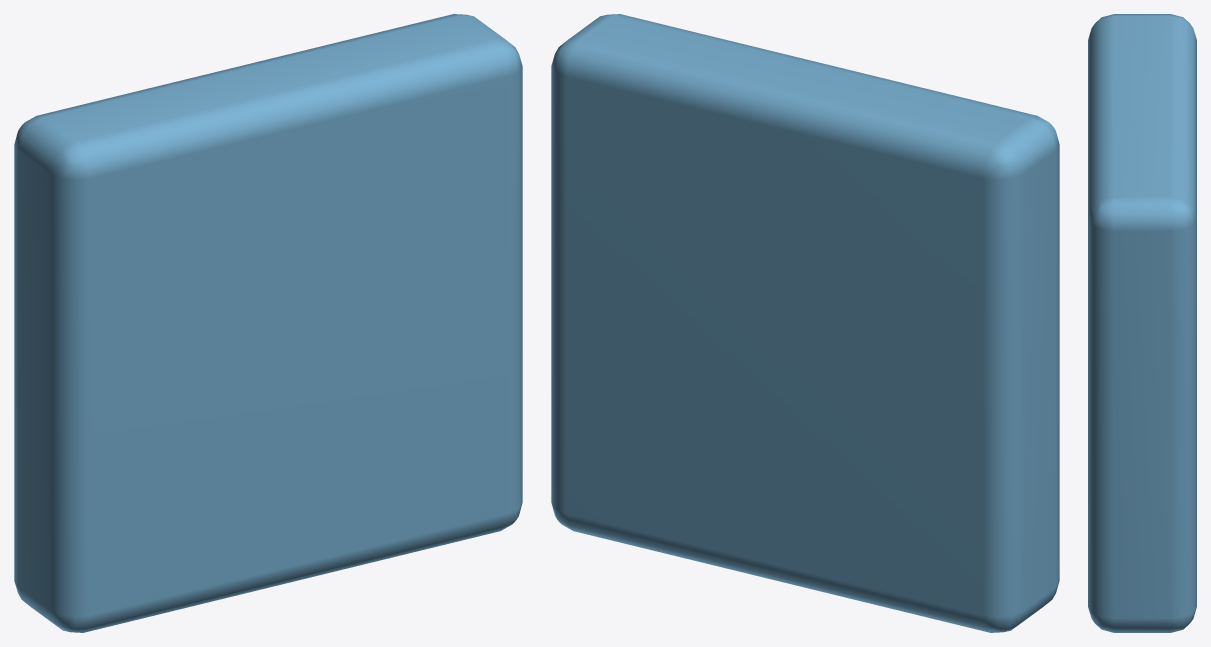
The model's file is shape-square-blue.glb.
3 views of the same model, side by side, from view 1: azimuth 30°, elevation 25°; view 2: azimuth 150°, elevation 25°; view 3: azimuth 270°, elevation 25° (orthographic). The views are drawn at different scales.
Visible parts, largest first — view 1: solid square; view 2: solid square; view 3: solid square.
Part boxes in pixels (<box>): solid square: <box>14,14,522,632</box>; solid square: <box>551,14,1059,632</box>; solid square: <box>1088,14,1196,632</box>.
Bounding box in the file's own units: 1.1 × 1.1 × 0.25.
